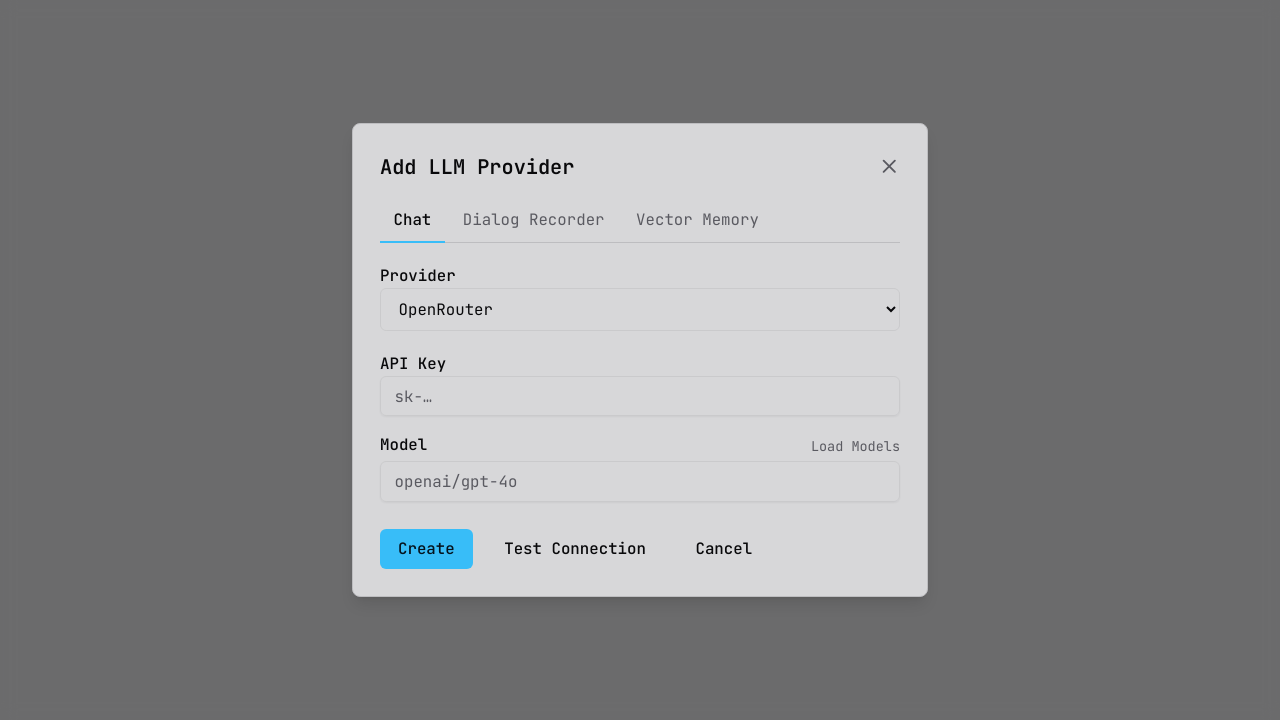
Test: LLMConfigDialog load-failure indication › S1.4 — editing the address clears the error message
Click the button "Vector Memory" at [698, 222], box [623,200,772,243]
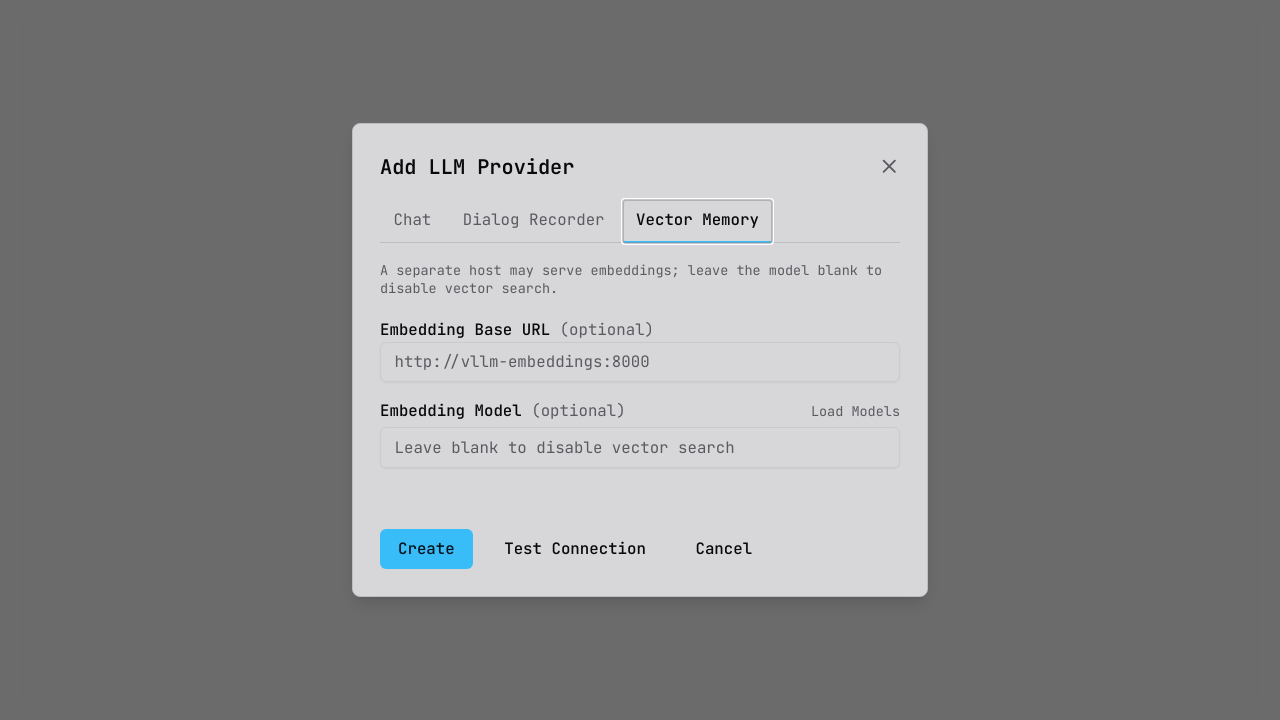
Click the button "Load Models" at [855, 412], box [811,402,900,420]
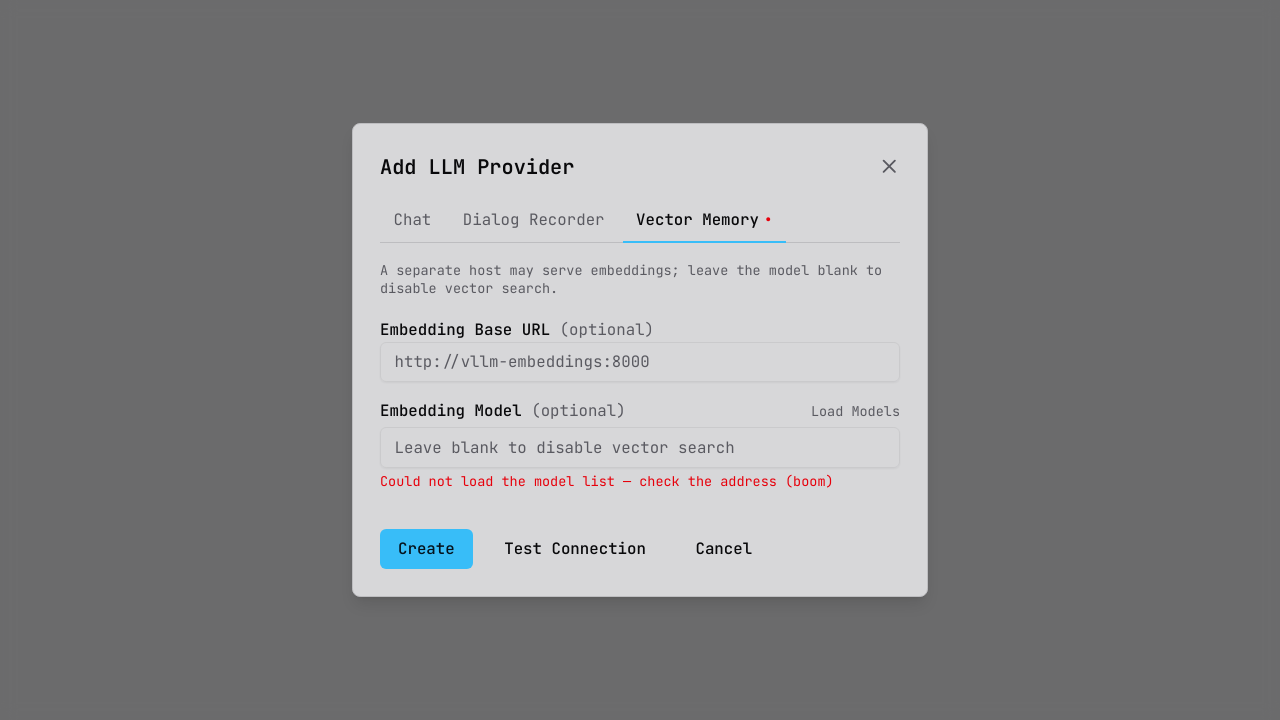
Now the text "Could not load the model list — check the address (boom)" is shown, box [380,472,900,490]
Type "x" into the field with placeholder "http://vllm-embeddings:8000" at [640, 362], box [380,342,900,382]
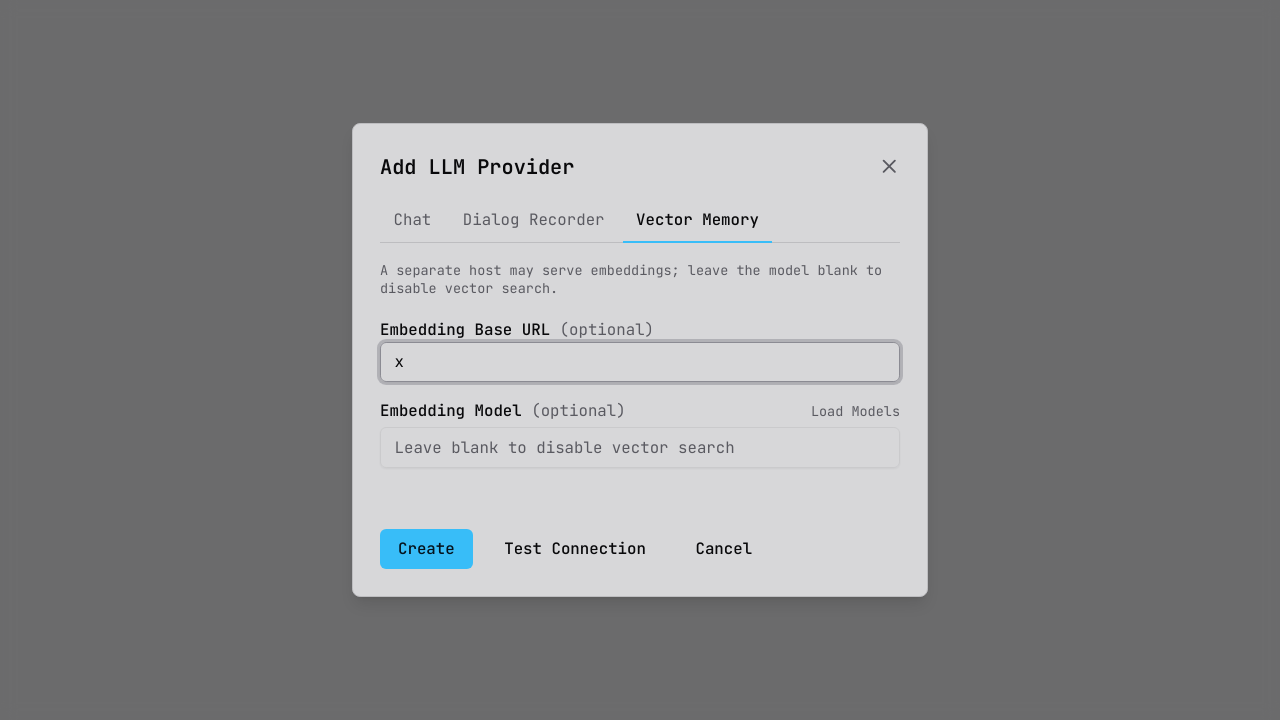
Now the text "Could not load the model list" is gone
